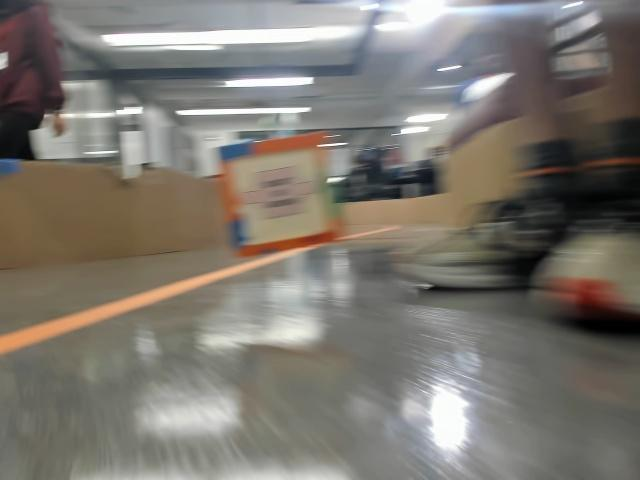Do Not Go Around: (234, 175, 317, 224)
